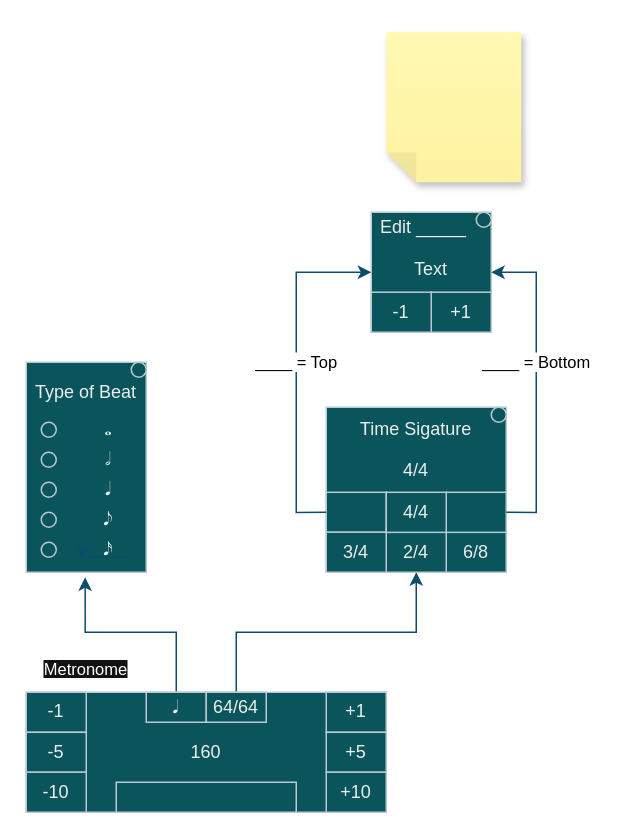
Image size: 617x839. Some labels were removed from this diagram. The centre of each missing label's shape, as x and y in pixels:
Bottom: point 475,511
Sound of beat: point 205,796
The blank is for the top or bottom: point 455,109
Top: point 355,511
